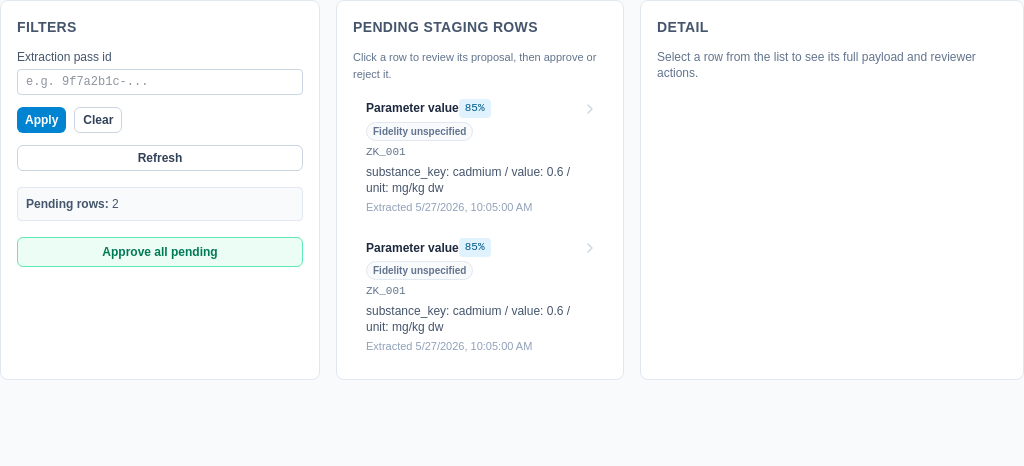
Scenario: CatalogStagingReview › clears selection when the previously-selected row drops out of the refreshed list
Click the button with test id "staging-row-staging-A": {"x": 480, "y": 157} [353, 90, 607, 223]
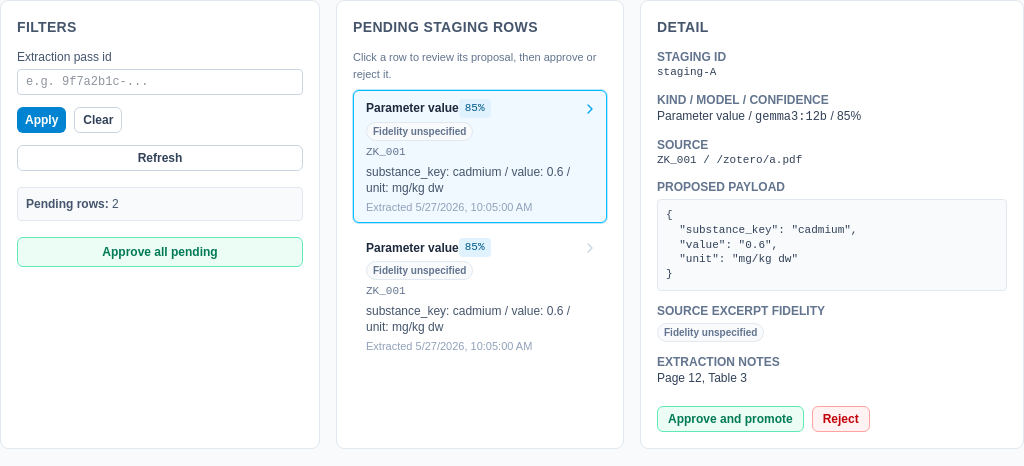
Expected: the element with test id "staging-detail" is shown, [657, 49, 1007, 432]
Click the button with test id "staging-refresh": {"x": 160, "y": 158} [17, 145, 303, 171]
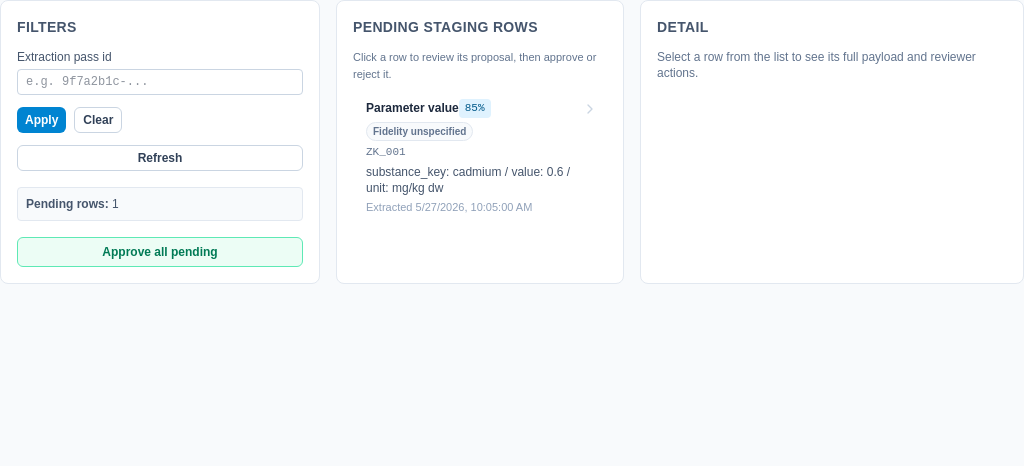
Expected: the button with test id "staging-row-staging-A" is gone
Expected: the message "Select a row from the list to see its full payload and reviewer actions." is shown, [657, 49, 1007, 81]
